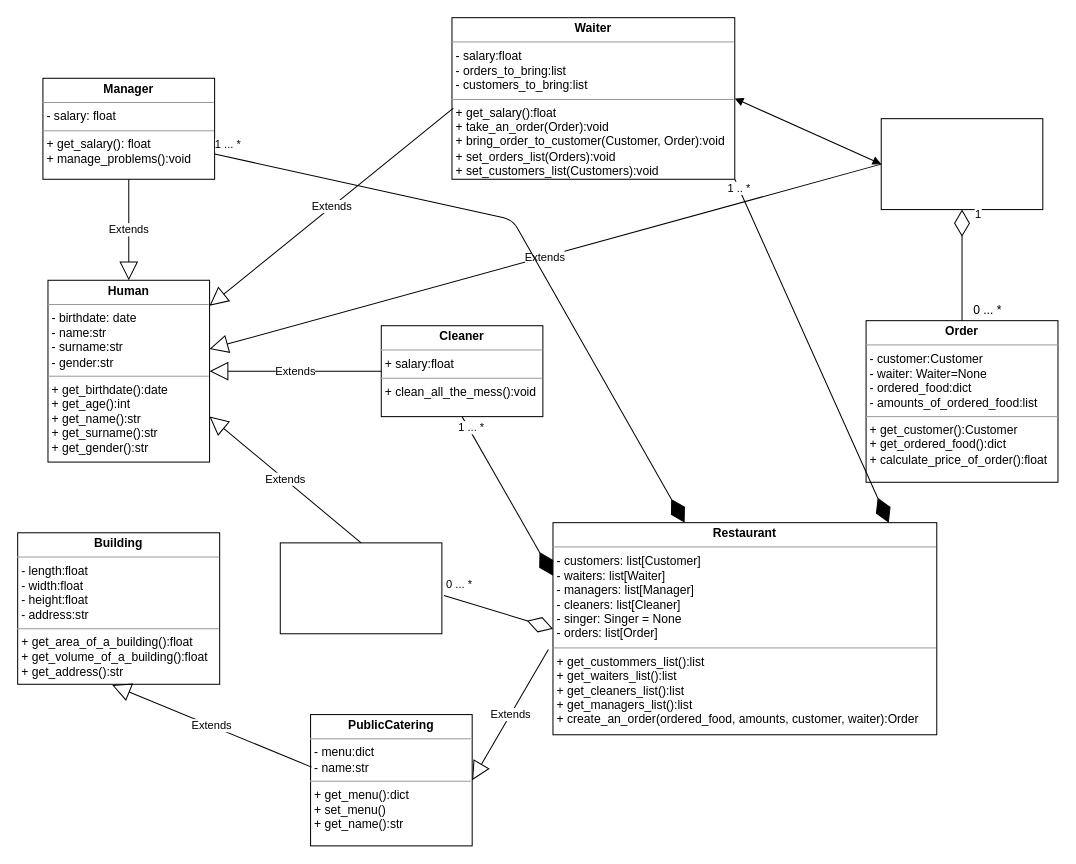
The diagram is 1076 pixels wide and 864 high, and some of its shapes have lost their labels. Here are the shapes that lost their labels. From the top down, the box of each, then its label:
(880, 118, 1043, 210): Customer - phone_number:str + get_phone_number():str
(279, 542, 442, 634): Singer - salary: float + list_of_songs():list
